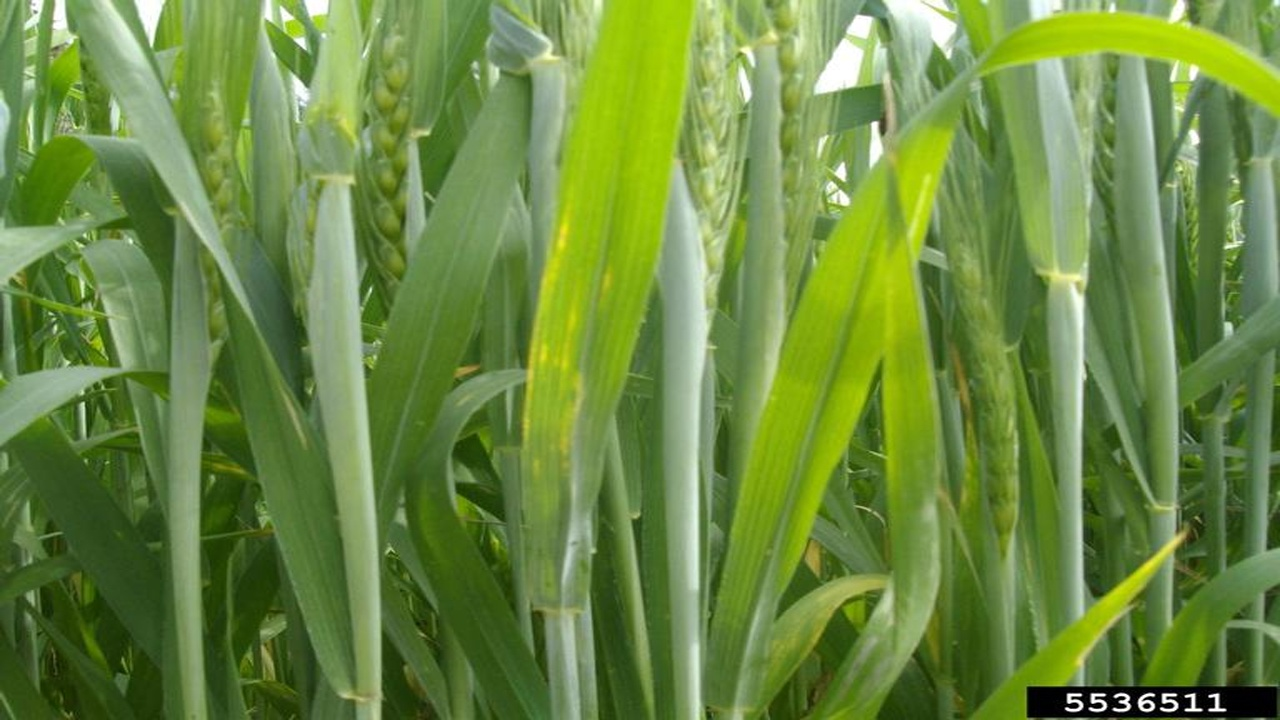stripe_rust: (519, 1, 691, 565)
